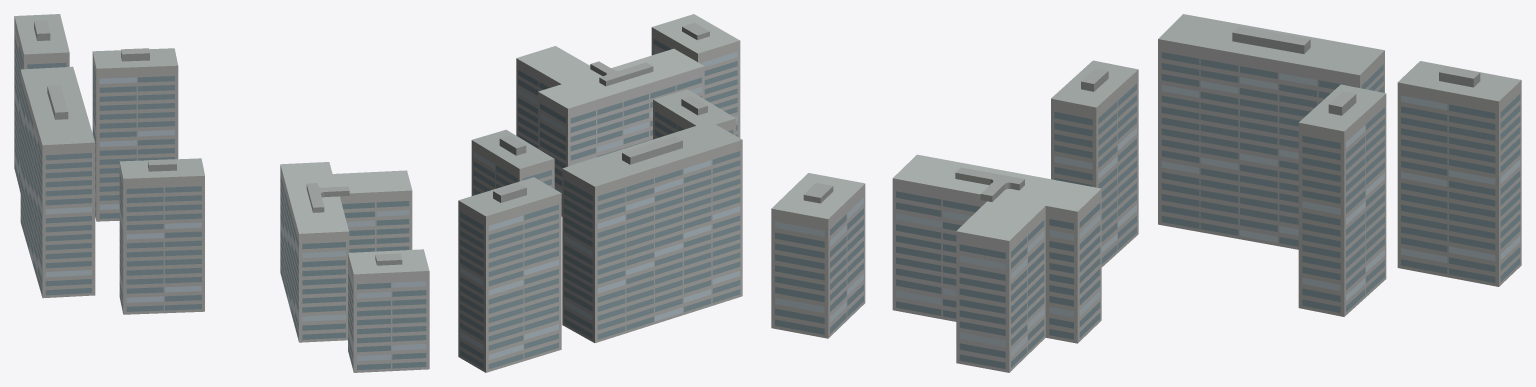
The model's file is apt-a13181201.glb.
The picture shows the model from 3 angles, left to right: view 1: azimuth 30°, elevation 25°; view 2: azimuth 150°, elevation 25°; view 3: azimuth 270°, elevation 25°; orthographic projection. The views are drawn at different scales.
Visible parts, largest first — view 1: apt-a13181201; view 2: apt-a13181201; view 3: apt-a13181201.
Part boxes in pixels (x1,y1,x2,y2): apt-a13181201: [14, 14, 429, 372]; apt-a13181201: [458, 14, 742, 372]; apt-a13181201: [771, 14, 1521, 372].
Size of the model in its own units: 86.14 by 45 by 157.
